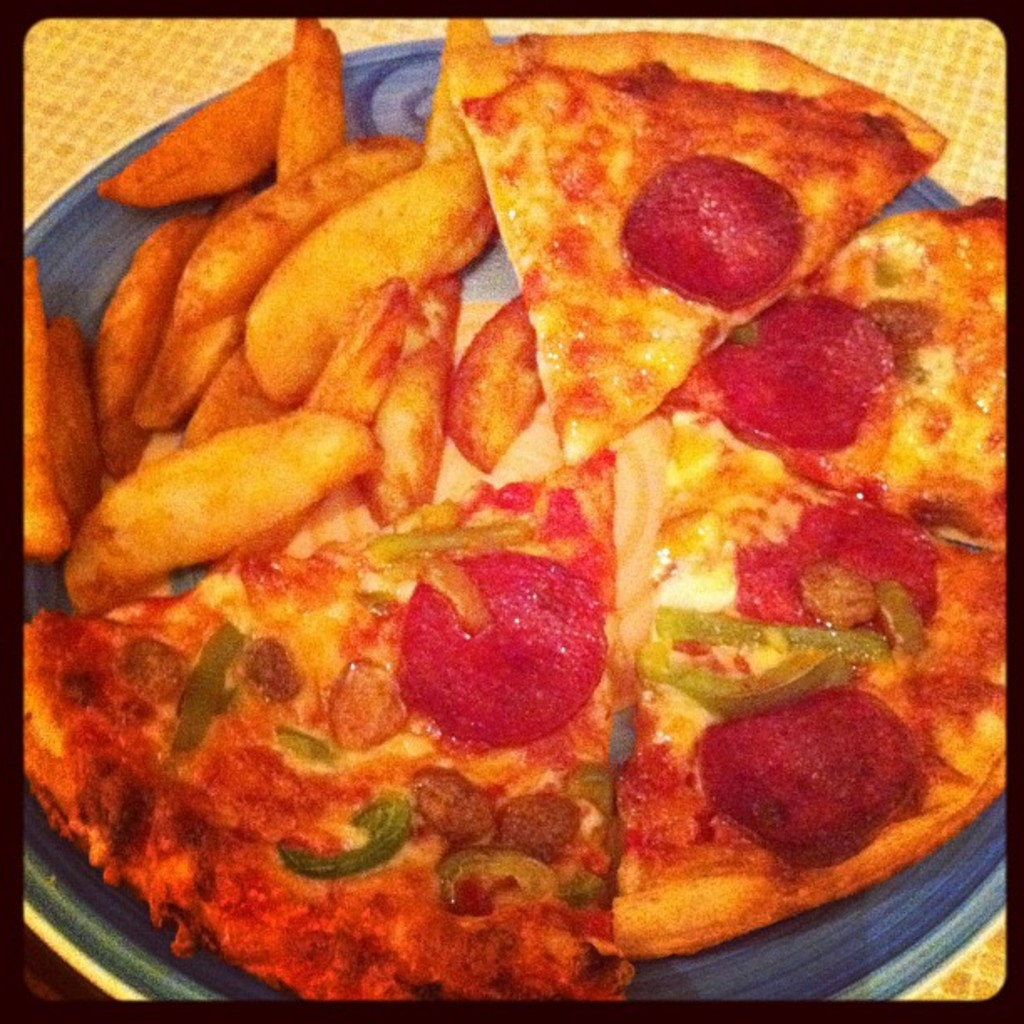Pizza: (18, 23, 1015, 1017)
